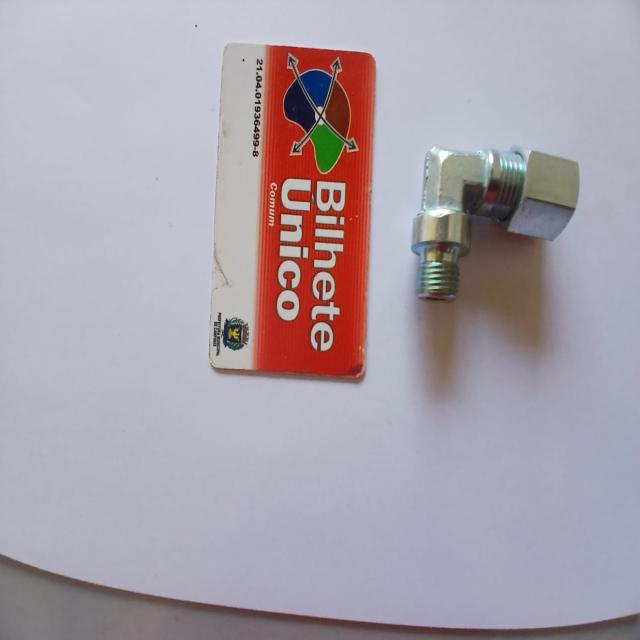cartao: (206, 28, 380, 389)
rosca_externa: (409, 115, 586, 315)
